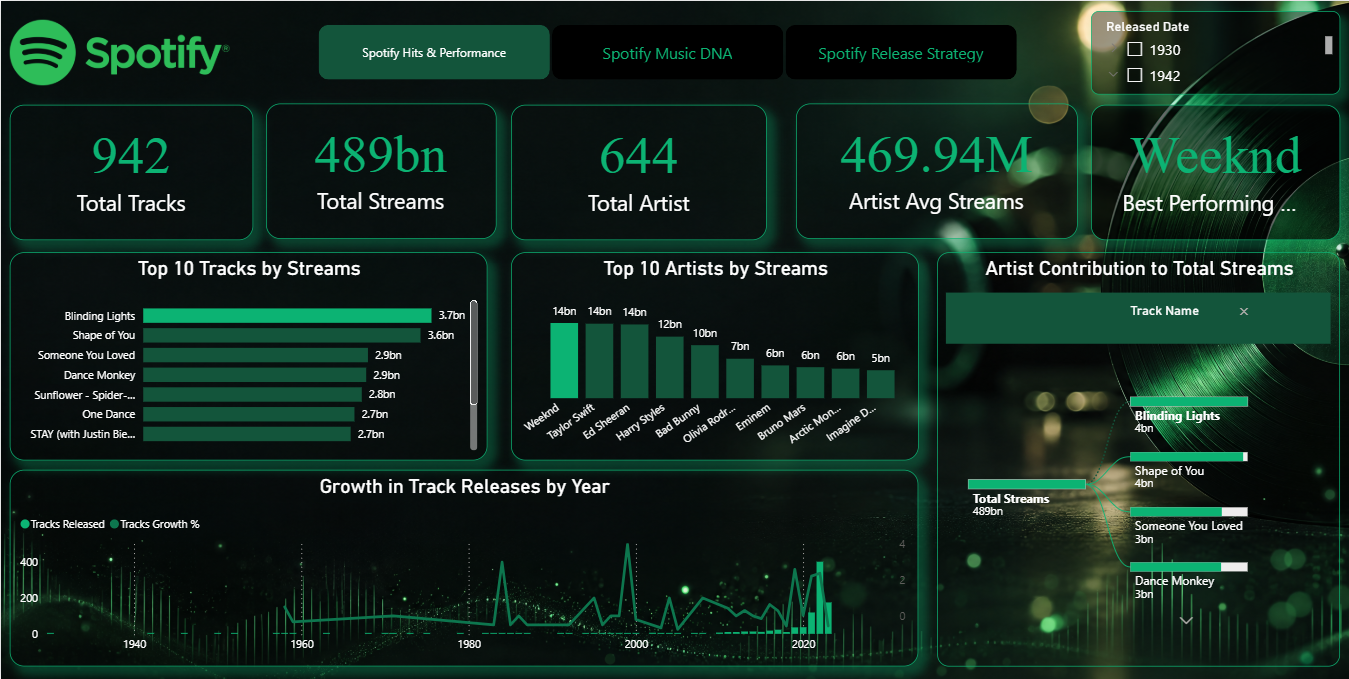

The dashboard page shown, as its layout file describes it:
{"tool":"powerbi","page":{"name":"Spotify Hits & Performance","canvas":[1500,753],"ordinal":0},"visuals":[{"type":"image","box":[10,0,244.3,114.3],"z":0},{"type":"cardVisual","fields":{"Data":["spotify-2023.Total Tracks"]},"box":[10,115.7,270,150],"z":1000},{"type":"cardVisual","fields":{"Data":["spotify-2023.Total Streams"]},"box":[297,115.2,255.7,150],"z":2000},{"type":"cardVisual","fields":{"Data":["spotify-2023.Total Artist"]},"box":[566.2,115.2,272,149.9],"z":3000},{"type":"cardVisual","fields":{"Data":["spotify-2023.Artist Avg Streams"]},"box":[857.7,113.8,285.9,149.9],"z":4000},{"type":"cardVisual","fields":{"Data":["Fact Track.Best Performing Artist"]},"box":[1153.3,115.2,334.5,149.9],"z":5000},{"type":"clusteredColumnChart","title":"Top 10 Tracks by Streams","fields":{"Category":["spotify-2023.Track Name"],"Y":["Sum(Fact Track.Streams)"]},"box":[10,278.6,530,231.4],"z":6000},{"type":"columnChart","title":"Top 10 Artists by Streams","fields":{"Category":["spotify-2023.Artist Name"],"Y":["spotify-2023.Total Streams"]},"box":[565.7,278.6,452.9,231.4],"z":7000},{"type":"treemap","title":"Speechiness Distribution Across Top 10 Tracks","fields":{"Group":["Fact Track.Track Name"],"Values":["Sum(Fact Track.speechiness_%)"]},"box":[1028.4,279,459.4,459.4],"z":9000},{"type":"pageNavigator","box":[352.9,25.7,775.7,61.4],"z":9001},{"type":"slicer","title":"Released Date","fields":{"Values":["Fact Track.Released Year Hierarchy.Released Year","Fact Track.Released Year Hierarchy.Released Month","Fact Track.Released Year Hierarchy.Released Day"]},"box":[1210,11.4,277.1,92.9],"z":9002},{"type":"lineClusteredColumnComboChart","title":"Growth in Track Releases by Year","fields":{"Category":["spotify-2023.Released Year"],"Y":["spotify-2023.Tracks Released (Unique)"],"Y2":["spotify-2023.Tracks Growth %"]},"box":[10,520,1008.6,218.6],"z":9003},{"type":"image","box":[222.1,115.2,52.7,68],"z":9004},{"type":"image","box":[491.3,129.1,48.6,43],"z":9005},{"type":"image","box":[764.7,129.1,62.5,43],"z":9006},{"type":"image","box":[1415.6,129.1,62.5,43],"z":9007}]}

Visuals, with their boxes in screenshot pixels (x1, y1, x2, y2), scaled from the page's 1500x753 canvas onto the 1349x679 screenshot:
image: [9,0,229,103]
cardVisual - spotify-2023.Total Tracks: [9,104,252,240]
cardVisual - spotify-2023.Total Streams: [267,104,497,239]
cardVisual - spotify-2023.Total Artist: [509,104,754,239]
cardVisual - spotify-2023.Artist Avg Streams: [771,103,1028,238]
cardVisual - Fact Track.Best Performing Artist: [1037,104,1338,239]
"Top 10 Tracks by Streams" clusteredColumnChart: [9,251,486,460]
"Top 10 Artists by Streams" columnChart: [509,251,916,460]
"Speechiness Distribution Across Top 10 Tracks" treemap: [925,252,1338,666]
pageNavigator: [317,23,1015,79]
"Released Date" slicer: [1088,10,1337,94]
"Growth in Track Releases by Year" lineClusteredColumnComboChart: [9,469,916,666]
image: [200,104,247,165]
image: [442,116,486,155]
image: [688,116,744,155]
image: [1273,116,1329,155]
